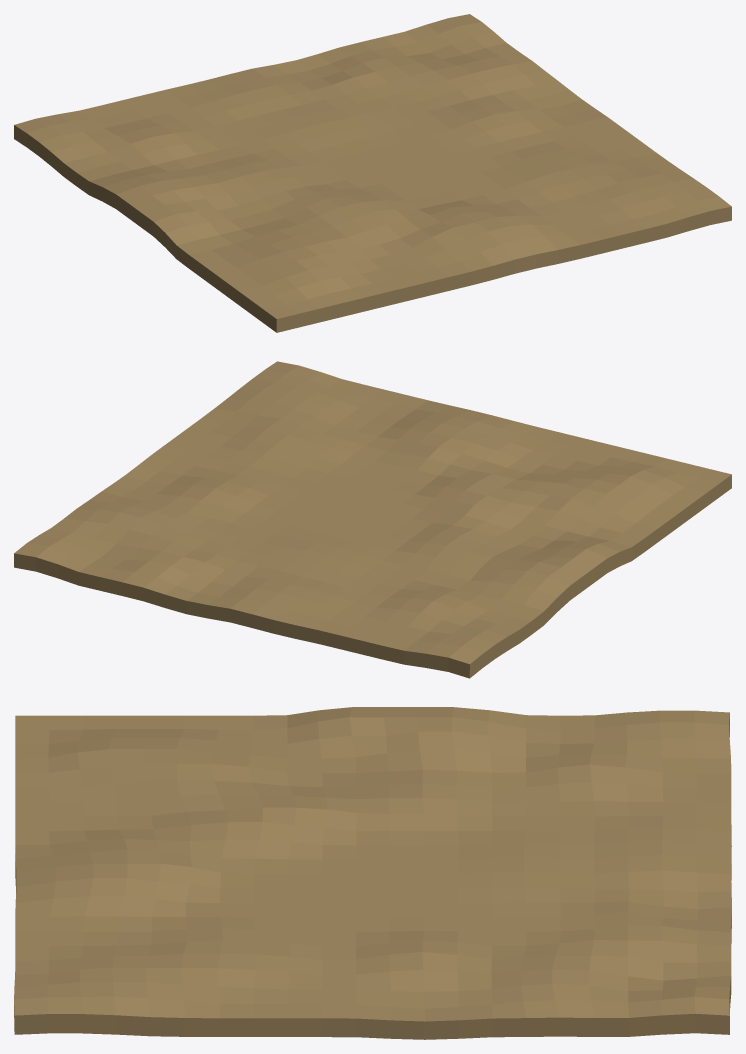
Rendered from ground.glb.
3 renders of one model, top to bottom at view 1: azimuth 30°, elevation 25°; view 2: azimuth 150°, elevation 25°; view 3: azimuth 270°, elevation 25°, orthographic. The views are drawn at different scales.
Visible parts, largest first — view 1: Plane; view 2: Plane; view 3: Plane.
Boxes of the visible parts, bbox=[...] form: Plane: bbox=[14, 14, 731, 332]; Plane: bbox=[14, 361, 731, 678]; Plane: bbox=[14, 707, 731, 1039].
Bounding box in the file's own units: 12.04 × 0.686 × 12.03.
